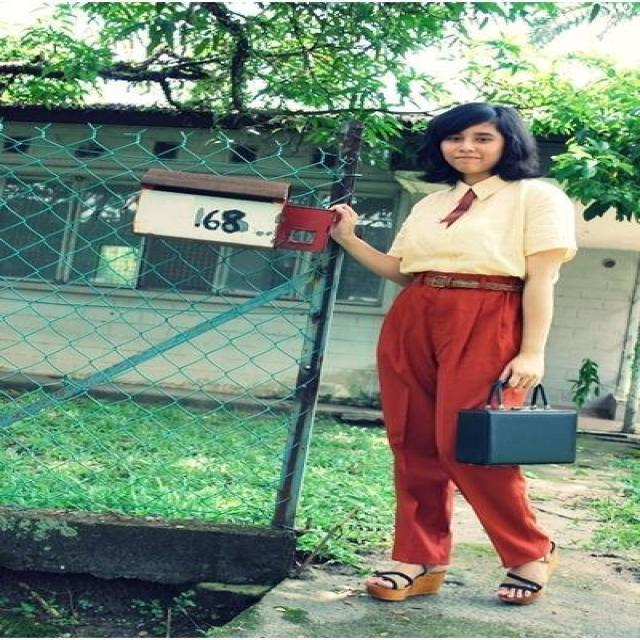bag: (456, 371, 598, 466)
shirt: (387, 176, 576, 275)
shoe: (376, 271, 547, 606)
